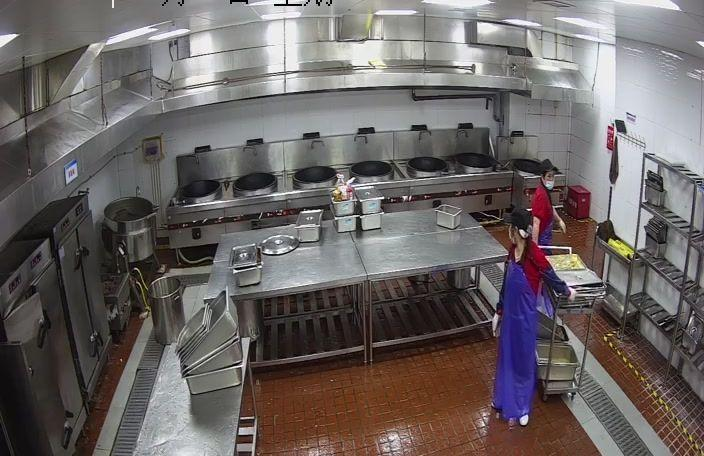apron: (489, 308, 504, 341), (555, 213, 571, 235), (562, 283, 579, 302)
mask: (542, 175, 558, 192)
